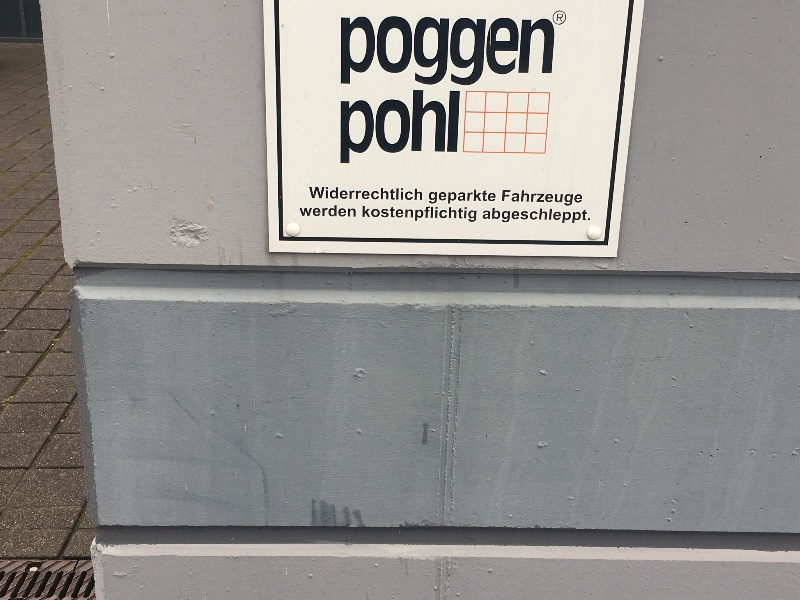text: (353, 90, 368, 166), (369, 90, 384, 166), (385, 90, 400, 166), (401, 90, 416, 166), (417, 90, 432, 166), (433, 90, 448, 166), (353, 15, 368, 89), (369, 15, 384, 89), (385, 15, 400, 89), (401, 15, 416, 89), (417, 15, 432, 89), (433, 15, 448, 89), (449, 15, 464, 89), (465, 15, 480, 89), (481, 15, 496, 89), (497, 15, 512, 89), (513, 15, 528, 89), (529, 15, 544, 89), (449, 90, 461, 166), (545, 15, 557, 89), (341, 90, 352, 166), (341, 15, 352, 89), (369, 202, 384, 224), (385, 202, 400, 224), (401, 202, 416, 224), (417, 202, 432, 224), (433, 202, 448, 224), (449, 202, 464, 224), (513, 190, 528, 208), (529, 190, 544, 208), (545, 190, 560, 208), (561, 190, 576, 208), (497, 207, 512, 225), (513, 207, 528, 225), (529, 207, 544, 225), (545, 207, 560, 225), (561, 207, 576, 225), (465, 202, 477, 224), (433, 188, 448, 205), (449, 188, 464, 205), (465, 188, 480, 205), (481, 188, 496, 205), (577, 207, 591, 225), (483, 207, 496, 225), (321, 186, 336, 201), (337, 186, 352, 201), (353, 186, 368, 201), (369, 186, 384, 201), (385, 186, 400, 201), (401, 186, 416, 201), (305, 203, 320, 218), (321, 203, 336, 218), (337, 203, 352, 218), (309, 186, 320, 201), (503, 190, 512, 208), (362, 202, 368, 224), (577, 190, 583, 208), (417, 186, 423, 201), (298, 203, 304, 218), (353, 203, 357, 218), (429, 188, 432, 205), (557, 13, 560, 23), (561, 13, 564, 23)
